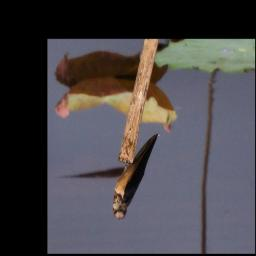Swallow: (112, 130, 159, 220)
